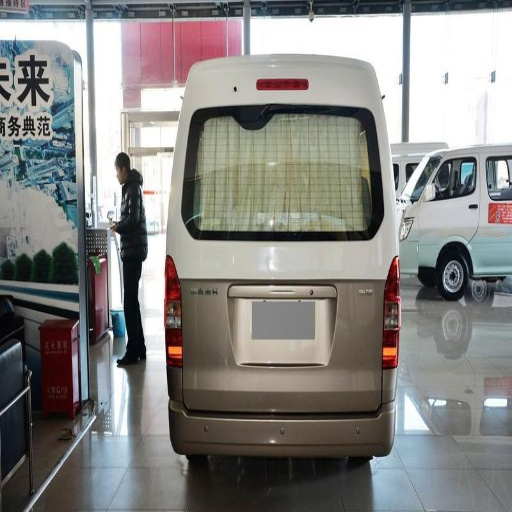back_bumper: (169, 370, 396, 451)
tailgate: (233, 292, 336, 367)
trunk: (179, 241, 383, 408)
